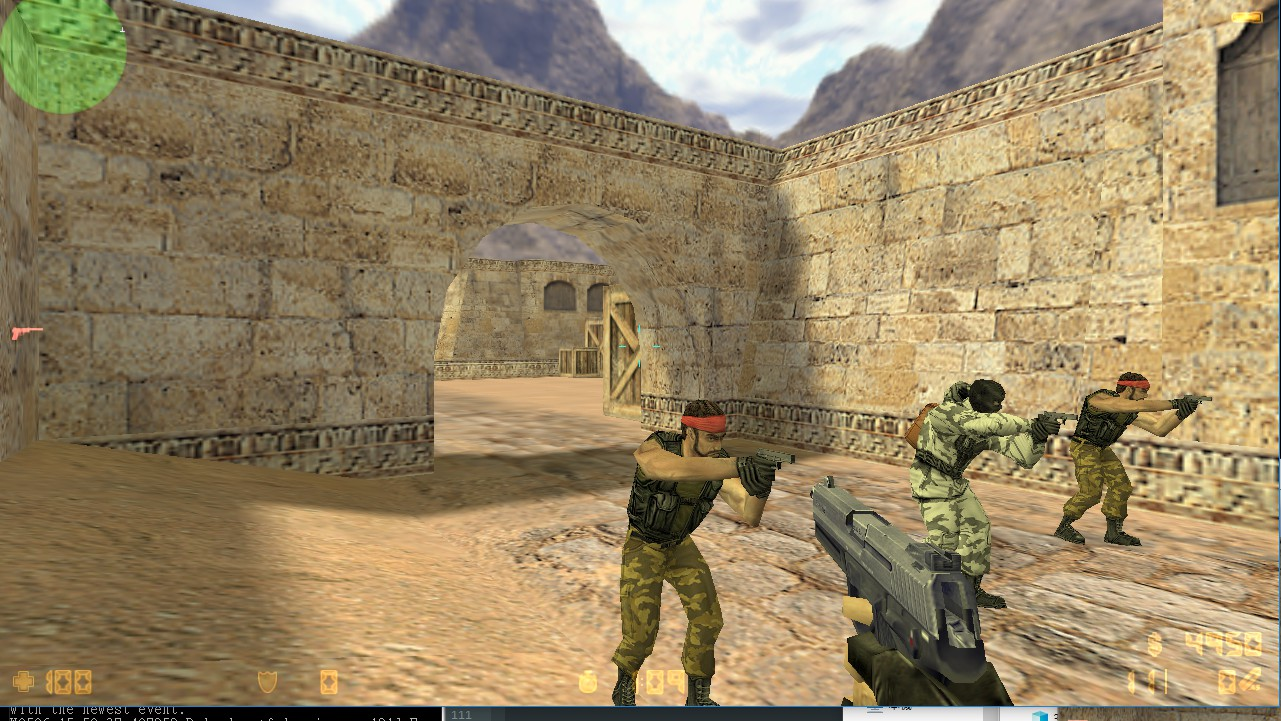person: (599, 391, 738, 704), (898, 367, 1024, 613), (1080, 363, 1148, 548)
